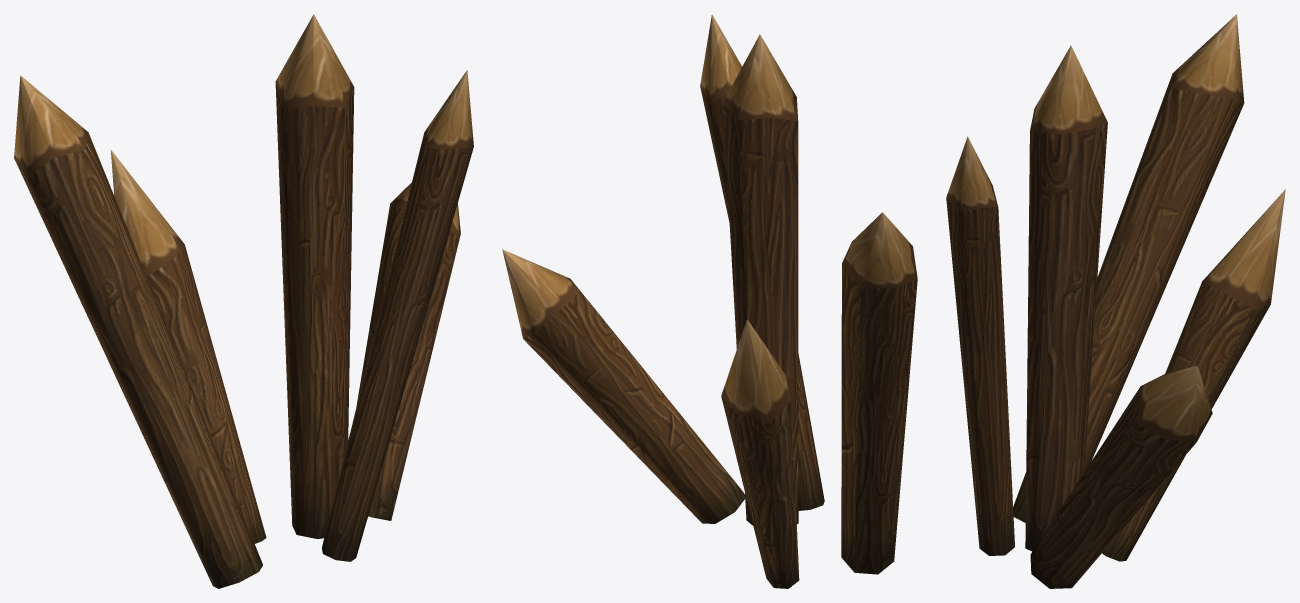
Rendered from Barricade1.fbx.
3 views of the same model, side by side, from view 1: azimuth 30°, elevation 25°; view 2: azimuth 150°, elevation 25°; view 3: azimuth 270°, elevation 25° (orthographic). The views are drawn at different scales.
Parts seen in each view (by area): view 1: polySurface642; view 2: polySurface642; view 3: polySurface642.
Part boxes in pixels (x1,y1,x2,y2): polySurface642: (14,14,473,588); polySurface642: (502,14,917,588); polySurface642: (946,14,1285,588).
Bounding box in the file's own units: 1.39 × 1.69 × 0.9693.
Materials: 1 (1 with a texture image).
